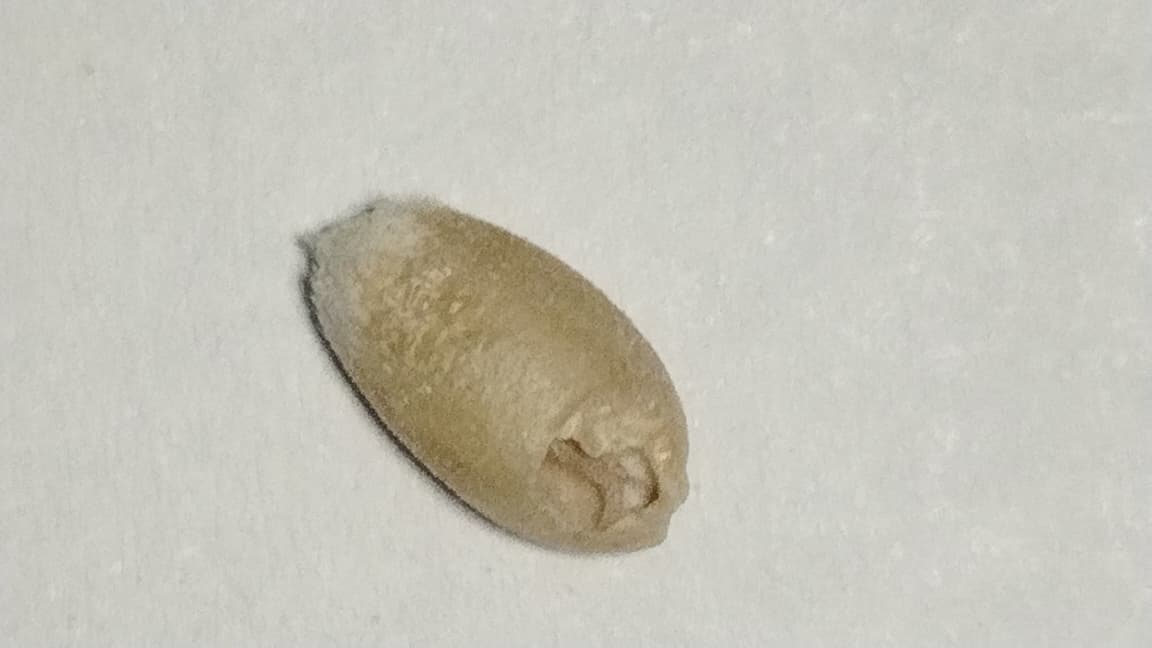damage: (297, 194, 689, 554)
insectdamage: (529, 400, 661, 543)
